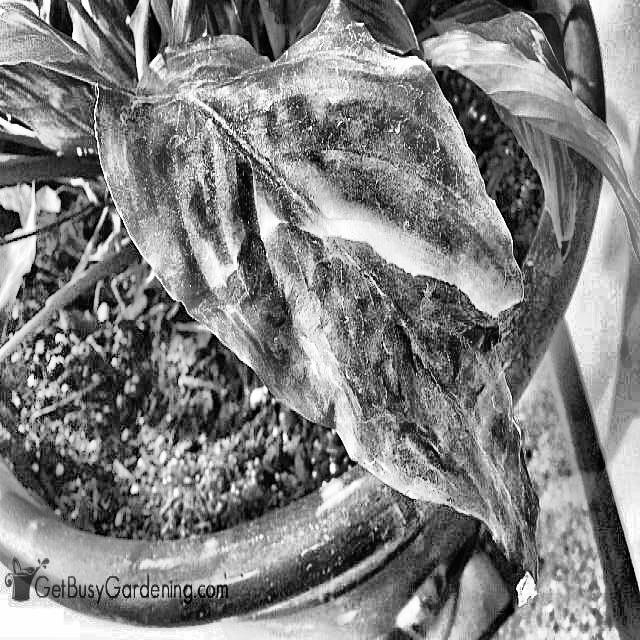plants: (94, 49, 564, 590)
